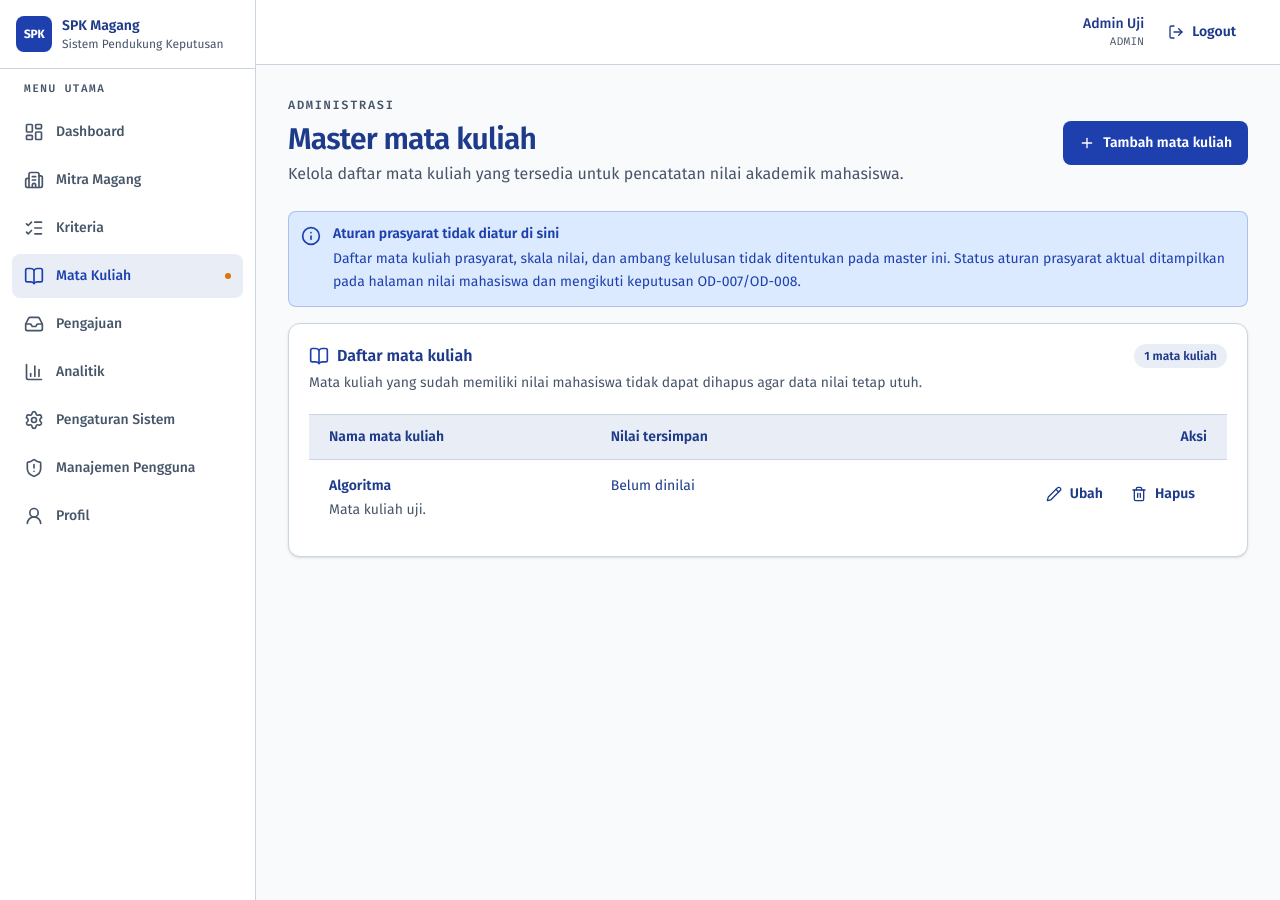
Test case: CoursesPage › mengubah mata kuliah melalui dialog
Click the button with aria-label "Ubah Algoritma" at (1074, 494), box [1034,476,1115,512]
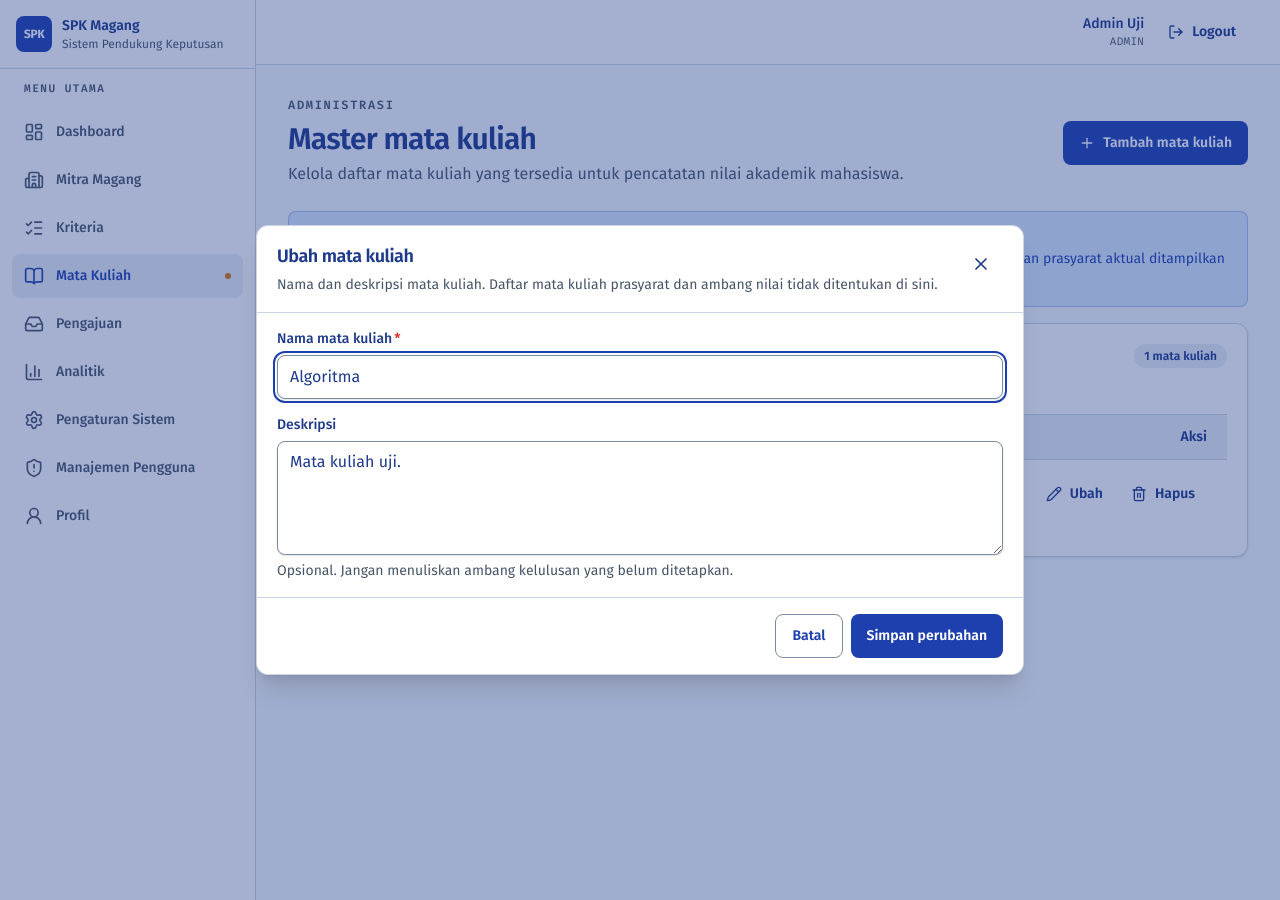
Replace the text in the field labelled "Nama mata kuliah*" with "Algoritma Lanjut" at (640, 377), box [277,355,1003,399]
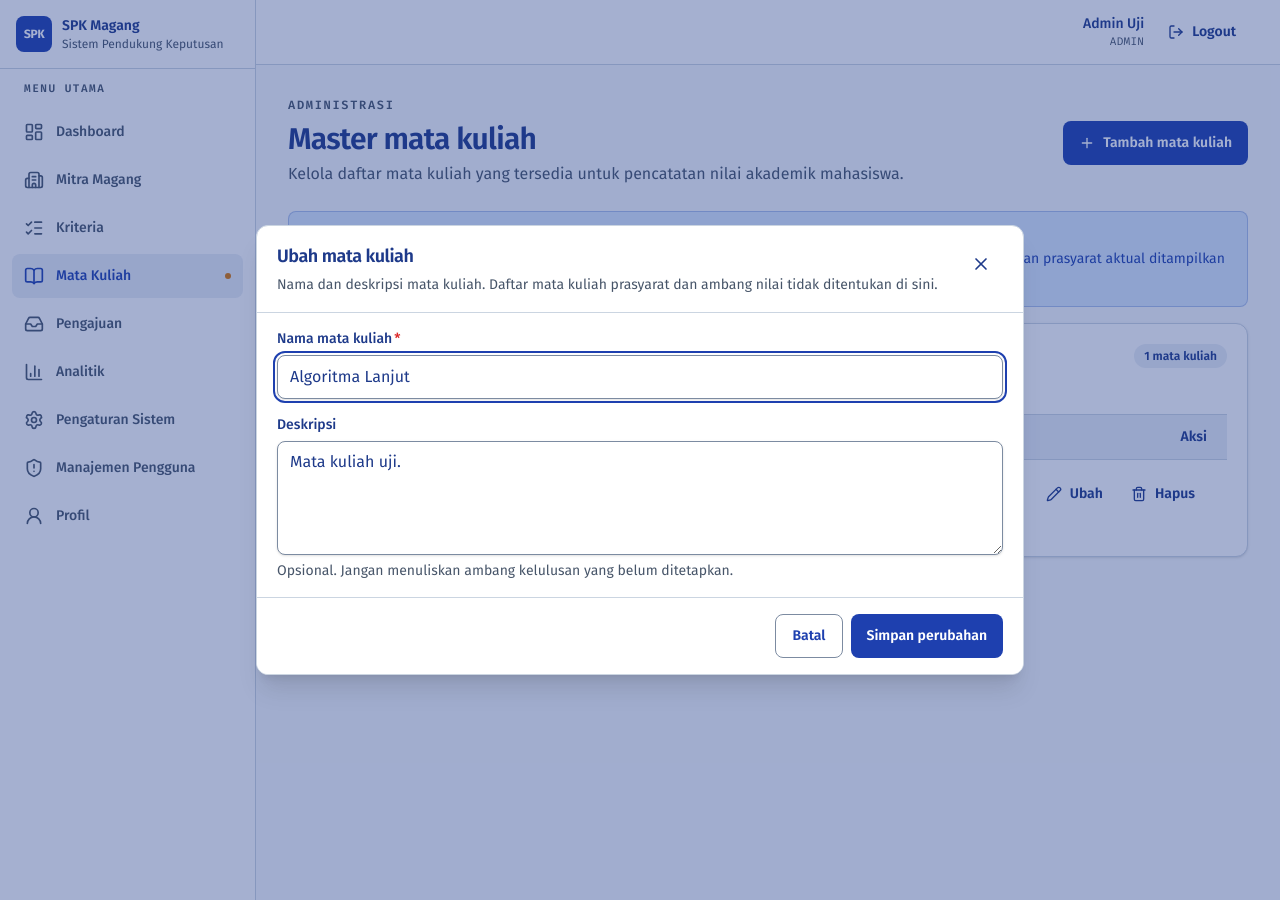
Click the button "Simpan perubahan" at (927, 636), box [850,614,1003,658]
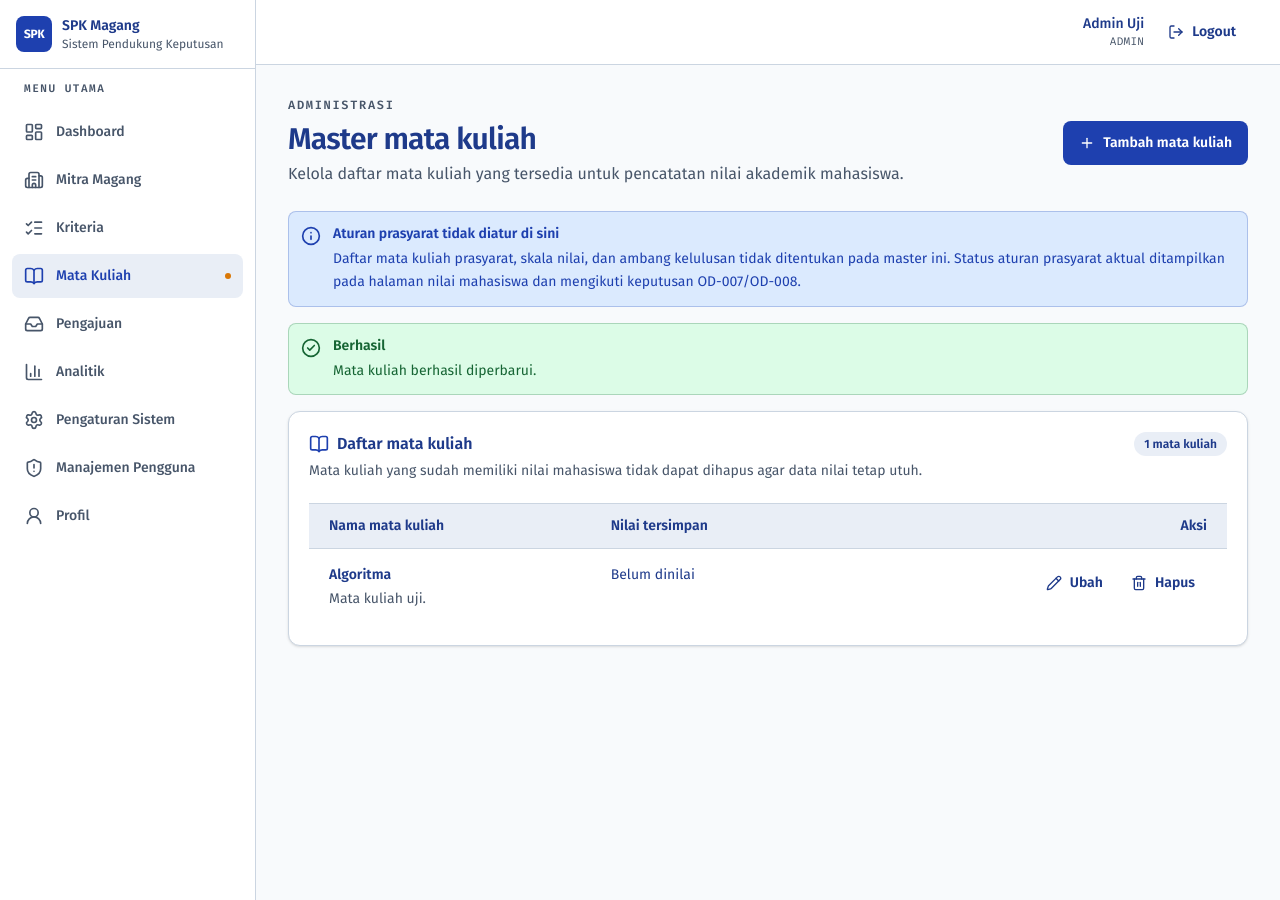
Now the text "Mata kuliah berhasil diperbarui." is shown, box [333,360,536,382]
